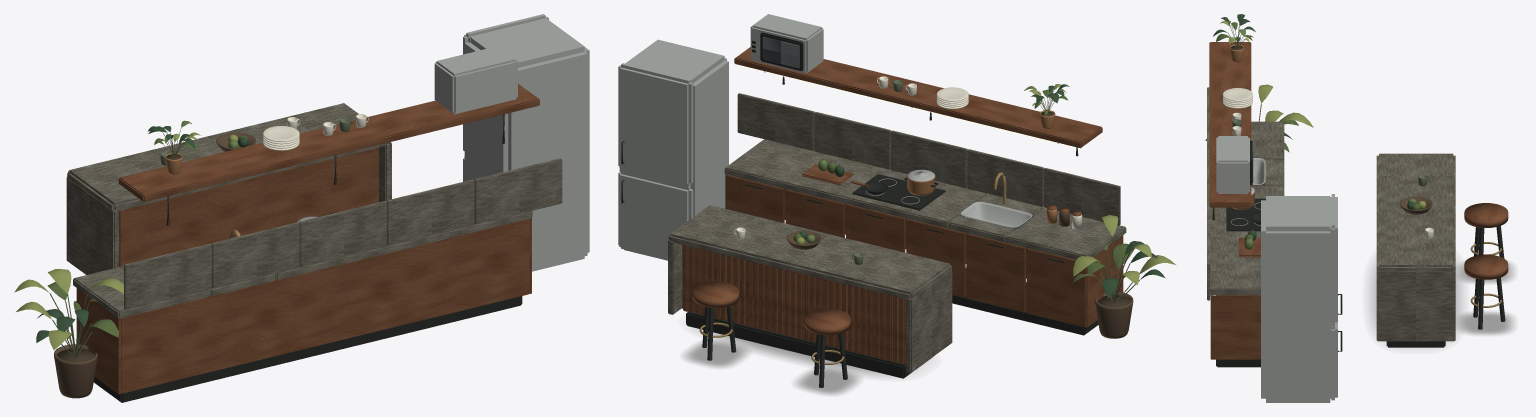
The model's file is kitchen.glb.
3 renders of one model, left to right at view 1: azimuth 30°, elevation 25°; view 2: azimuth 150°, elevation 25°; view 3: azimuth 270°, elevation 25°, orthographic. The views are drawn at different scales.
Parts seen in each view (by area): view 1: M03 | Quarter-cut walnut.004, M02 | Honed limestone.003, Hardware | Brushed steel.001, Hardware | Anthracite.003, Ceramics | Iron glaze.004, M08 | Leaf 3.003, Fixtures | Warm glazed porcelain.002, M08 | Leaf 0.003, M08 | Plant stems.003, M08 | Leaf 1.003; view 2: M02 | Honed limestone.003, M03 | Quarter-cut walnut.004, Hardware | Brushed steel.001, Hardware | Anthracite.003, Contact | Diffuse grounding.004, M06 | Blackened steel.004, Ceramics | Iron glaze.004, M08 | Leaf 3.003, Fixtures | Warm glazed porcelain.002, M08 | Leaf 0.003, M07 | Brushed silvered glass.002, M08 | Leaf 1.003 (+3 smaller); view 3: M02 | Honed limestone.003, Hardware | Brushed steel.001, M03 | Quarter-cut walnut.004, Contact | Diffuse grounding.004, Hardware | Anthracite.003, M06 | Blackened steel.004, Fixtures | Warm glazed porcelain.002, M08 | Leaf 3.003, M08 | Leaf 0.003, M08 | Leaf 1.003, Ceramics | Iron glaze.004, Ceramics | Burnt sienna.002.
Part boxes in pixels (x1,y1,x2,y2): M03 | Quarter-cut walnut.004: [76, 84, 539, 394]; M02 | Honed limestone.003: [66, 103, 562, 318]; Hardware | Brushed steel.001: [297, 14, 589, 271]; Hardware | Anthracite.003: [93, 212, 522, 402]; Ceramics | Iron glaze.004: [54, 132, 255, 398]; M08 | Leaf 3.003: [14, 132, 238, 349]; Fixtures | Warm glazed porcelain.002: [263, 114, 368, 150]; M08 | Leaf 0.003: [36, 126, 248, 342]; M08 | Plant stems.003: [49, 127, 183, 357]; M08 | Leaf 1.003: [47, 135, 248, 337]; M02 | Honed limestone.003: [668, 93, 1126, 372]; M03 | Quarter-cut walnut.004: [682, 47, 1123, 364]; Hardware | Brushed steel.001: [618, 14, 1032, 260]; Hardware | Anthracite.003: [686, 32, 1098, 378]; Contact | Diffuse grounding.004: [685, 330, 889, 394]; M06 | Blackened steel.004: [621, 40, 1078, 387]; Ceramics | Iron glaze.004: [786, 211, 1133, 338]; M08 | Leaf 3.003: [796, 84, 1175, 285]; Fixtures | Warm glazed porcelain.002: [734, 76, 1082, 239]; M08 | Leaf 0.003: [799, 84, 1164, 298]; M07 | Brushed silvered glass.002: [762, 36, 799, 68]; M08 | Leaf 1.003: [793, 89, 1134, 282]; M02 | Honed limestone.003: [1207, 87, 1455, 341]; Hardware | Brushed steel.001: [1216, 136, 1337, 402]; M03 | Quarter-cut walnut.004: [1209, 42, 1508, 359]; Contact | Diffuse grounding.004: [1370, 262, 1513, 334]; Hardware | Anthracite.003: [1216, 140, 1445, 367]; M06 | Blackened steel.004: [1212, 170, 1505, 351]; Fixtures | Warm glazed porcelain.002: [1222, 88, 1433, 239]; M08 | Leaf 3.003: [1220, 21, 1426, 209]; M08 | Leaf 0.003: [1213, 14, 1414, 240]; M08 | Leaf 1.003: [1205, 22, 1420, 241]; Ceramics | Iron glaze.004: [1399, 196, 1432, 214]; Ceramics | Burnt sienna.002: [1229, 44, 1255, 209].
Size of the model in its own units: 5.79 by 2.45 by 3.34.
19 materials, 5 textured.
